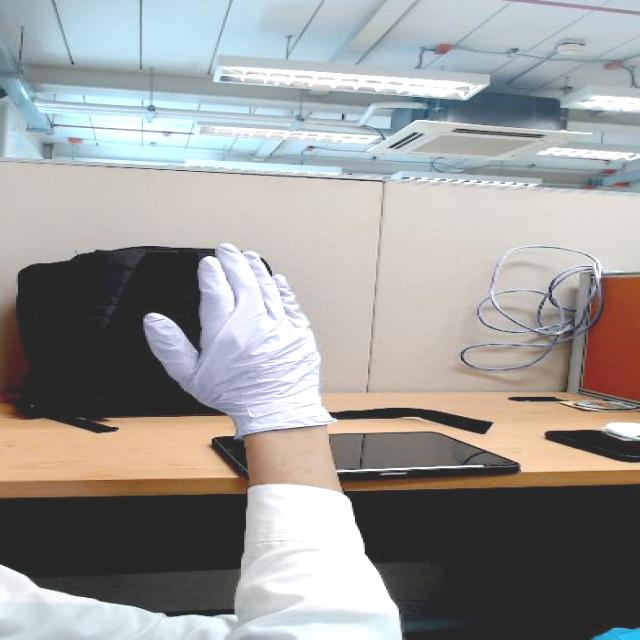glove: (135, 239, 331, 401)
